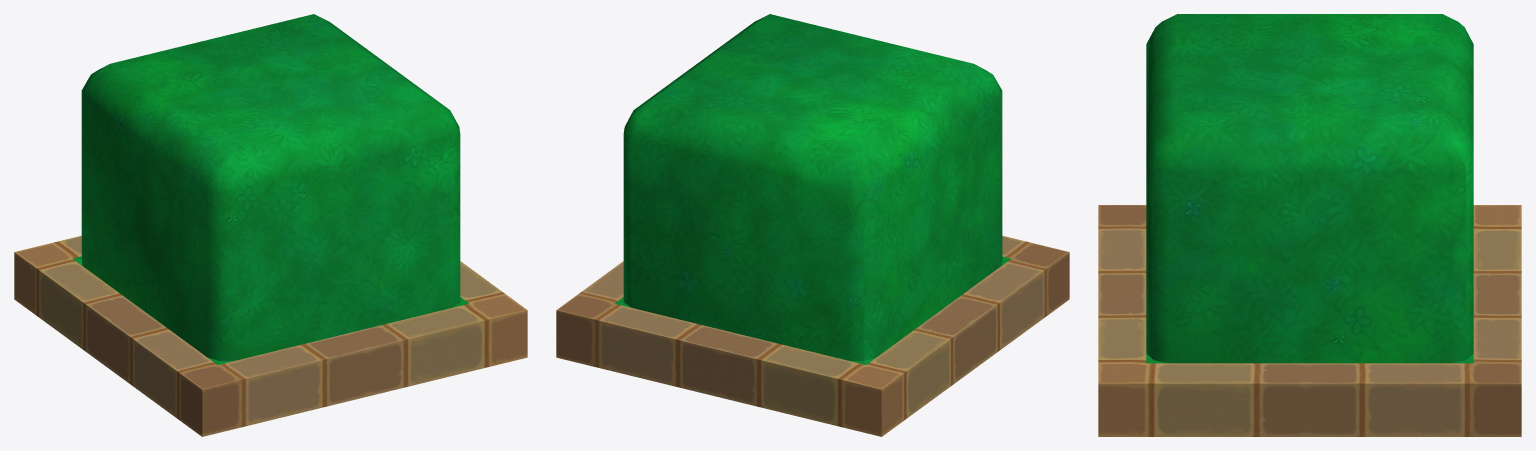
The model's file is Plant01_e03.FBX.
3 views of the same model, side by side, from view 1: azimuth 30°, elevation 25°; view 2: azimuth 150°, elevation 25°; view 3: azimuth 270°, elevation 25° (orthographic). The views are drawn at different scales.
Visible parts, largest first — view 1: Plant01_e03; view 2: Plant01_e03; view 3: Plant01_e03.
Part boxes in pixels (x1,y1,x2,y2): Plant01_e03: (14, 14, 527, 436); Plant01_e03: (556, 14, 1069, 436); Plant01_e03: (1098, 14, 1521, 436).
Size of the model in its own units: 339 by 245 by 339.
2 materials, 2 textured.
